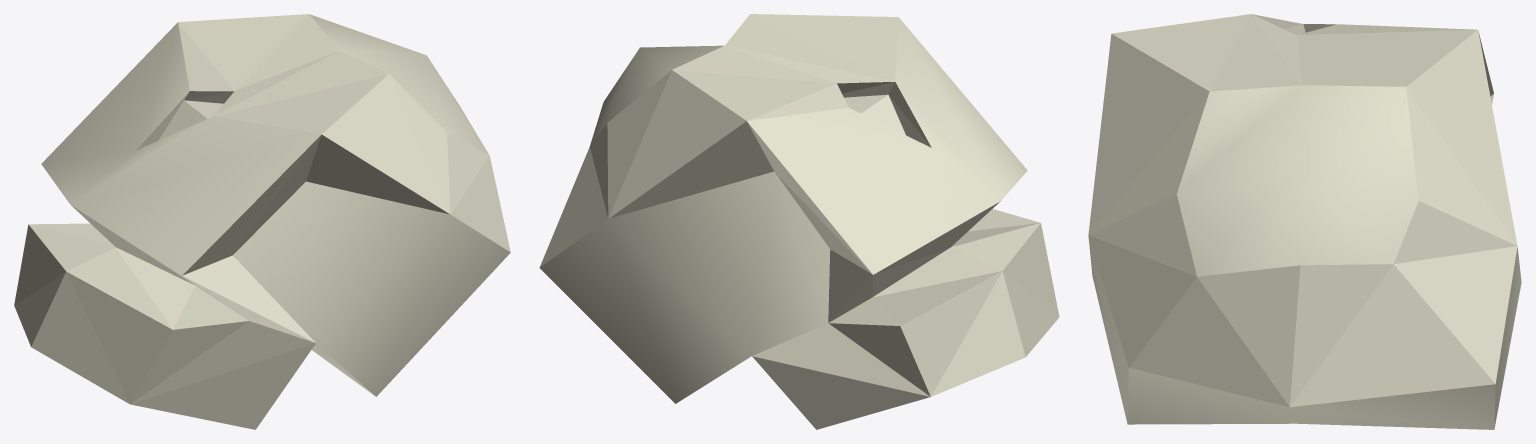
Rendered from RG-Dungeon_Decor.fbx.
3 renders of one model, left to right at view 1: azimuth 30°, elevation 25°; view 2: azimuth 150°, elevation 25°; view 3: azimuth 270°, elevation 25°, orthographic. The views are drawn at different scales.
Parts seen in each view (by area): view 1: RG-Dungeon_Decor; view 2: RG-Dungeon_Decor; view 3: RG-Dungeon_Decor.
Boxes of the visible parts, box(x1,y1,x2,y2) form: RG-Dungeon_Decor: box(14, 14, 510, 429); RG-Dungeon_Decor: box(539, 14, 1059, 429); RG-Dungeon_Decor: box(1088, 14, 1521, 429).
Size of the model in its own units: 1.89 by 1.2 by 1.27.
